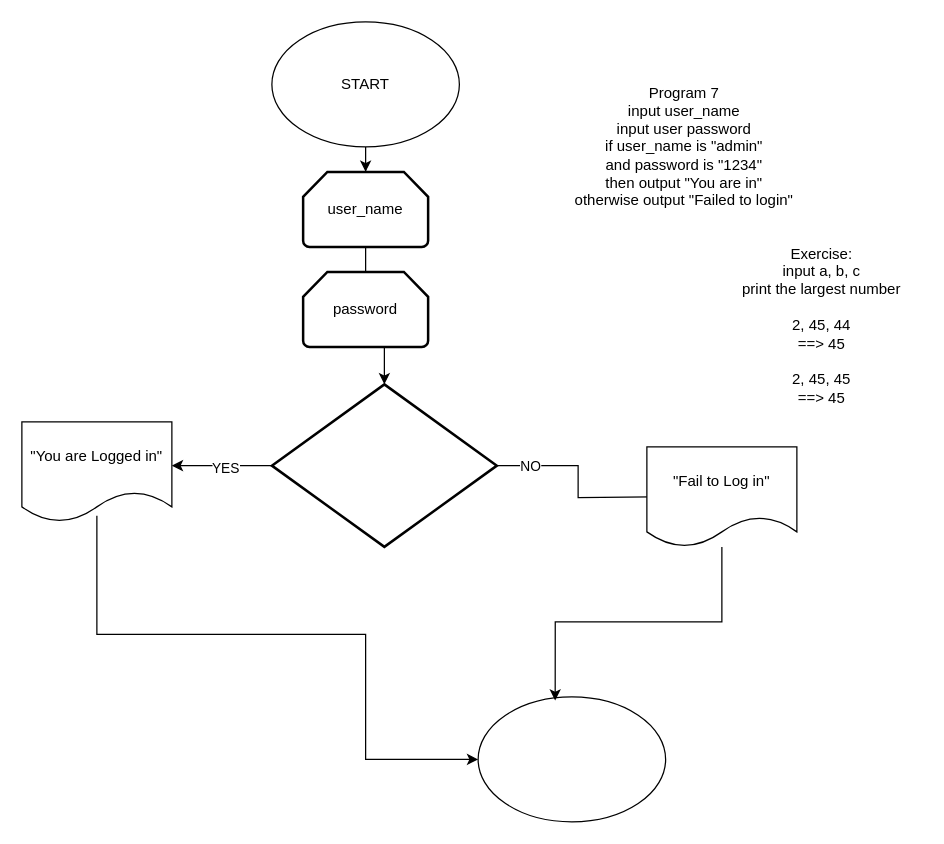
Some shapes in this 944 by 844 pixel diagram are drawn without their labels. Here are the shapes that lost their labels. From the top down, the centre of each, then its label:
pixel 384 465: user_name == "admin" AND password == "1234"
pixel 571 759: STOP
